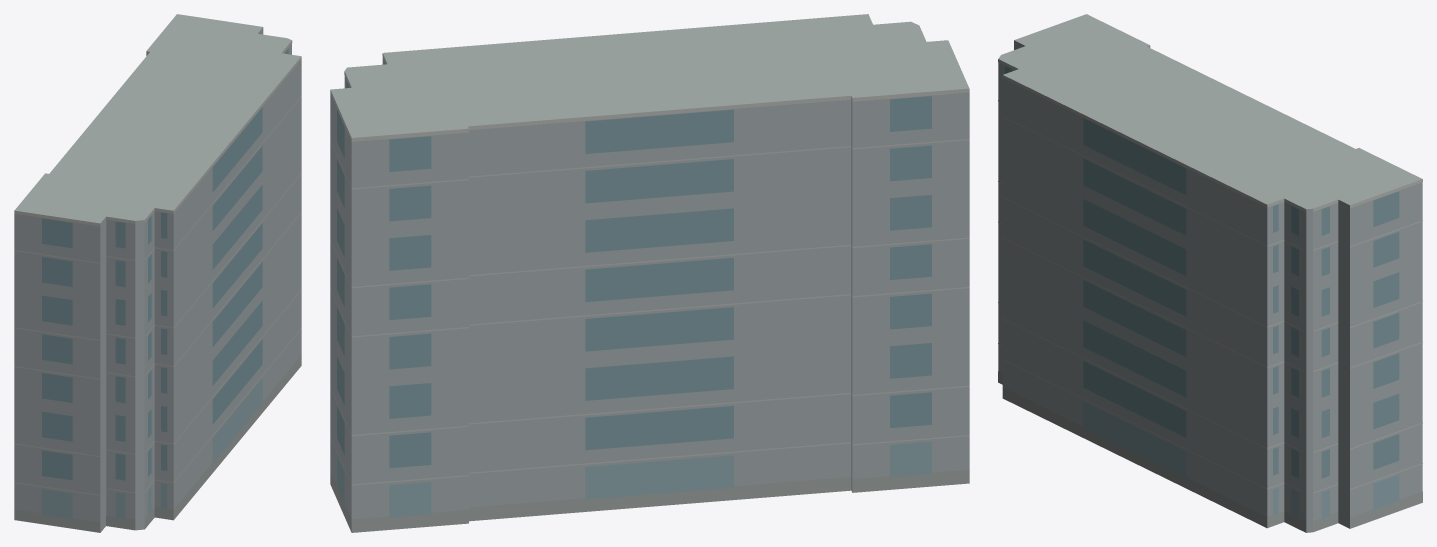
The model's file is survey-upis-32728016.glb.
3 views of the same model, side by side, from view 1: azimuth 30°, elevation 25°; view 2: azimuth 150°, elevation 25°; view 3: azimuth 270°, elevation 25° (orthographic). The views are drawn at different scales.
Visible parts, largest first — view 1: survey-upis-32728016.tmp; view 2: survey-upis-32728016.tmp; view 3: survey-upis-32728016.tmp.
Boxes of the visible parts, x1,y1,x2,y2 form: survey-upis-32728016.tmp: (14, 14, 301, 532); survey-upis-32728016.tmp: (330, 14, 969, 532); survey-upis-32728016.tmp: (998, 14, 1422, 532).
Bounding box in the file's own units: 31.73 × 24.5 × 29.15.
